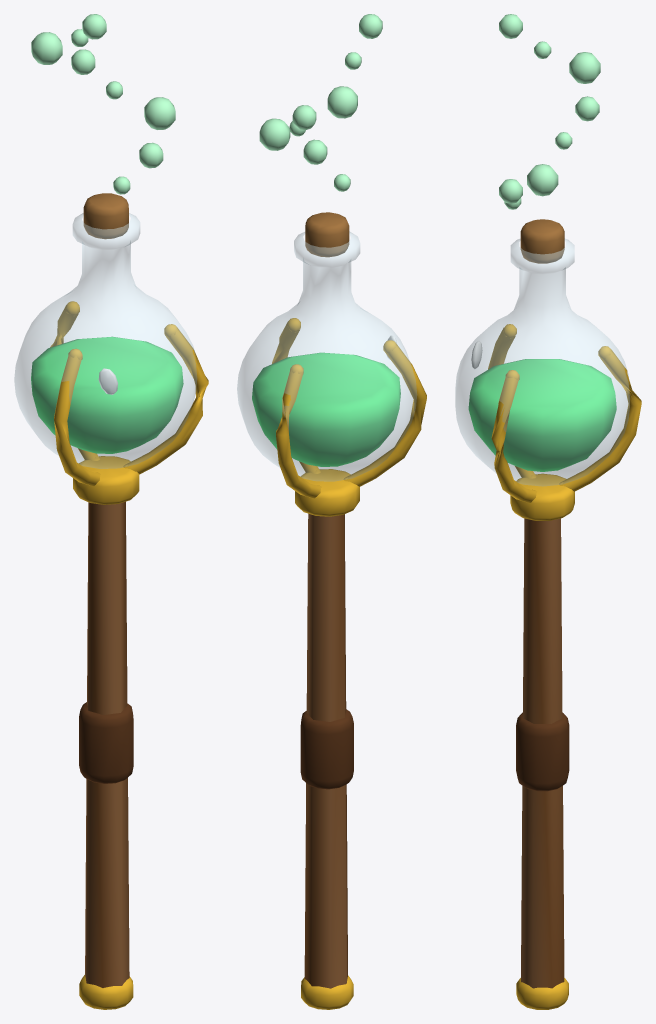
Rendered from hand_bxflask.glb.
3 renders of one model, left to right at view 1: azimuth 30°, elevation 25°; view 2: azimuth 150°, elevation 25°; view 3: azimuth 270°, elevation 25°, orthographic. The views are drawn at different scales.
Parts seen in each view (by area): view 1: bxflaskst, bxflask_bub2, bxflask_bub5, bxflask_bub4, bxflask_bub7, bxflask_bub1; view 2: bxflaskst, bxflask_bub2, bxflask_bub5, bxflask_bub1, bxflask_bub4, bxflask_bub7; view 3: bxflaskst, bxflask_bub2, bxflask_bub5, bxflask_bub4, bxflask_bub1, bxflask_bub7.
Boxes of the visible parts, x1,y1,x2,y2 form: bxflaskst: [14, 193, 208, 1009]; bxflask_bub2: [144, 97, 175, 129]; bxflask_bub5: [31, 32, 62, 64]; bxflask_bub4: [71, 49, 95, 74]; bxflask_bub7: [82, 14, 106, 39]; bxflask_bub1: [139, 142, 163, 168]; bxflaskst: [237, 212, 426, 1009]; bxflask_bub2: [259, 118, 290, 150]; bxflask_bub5: [327, 86, 357, 118]; bxflask_bub1: [303, 139, 327, 164]; bxflask_bub4: [292, 105, 316, 129]; bxflask_bub7: [359, 14, 382, 38]; bxflaskst: [455, 219, 641, 1009]; bxflask_bub2: [527, 164, 558, 196]; bxflask_bub5: [569, 52, 600, 83]; bxflask_bub4: [575, 96, 599, 121]; bxflask_bub1: [499, 179, 522, 203]; bxflask_bub7: [499, 14, 522, 38].
Size of the model in its own units: 1.2 by 7.21 by 1.25.
